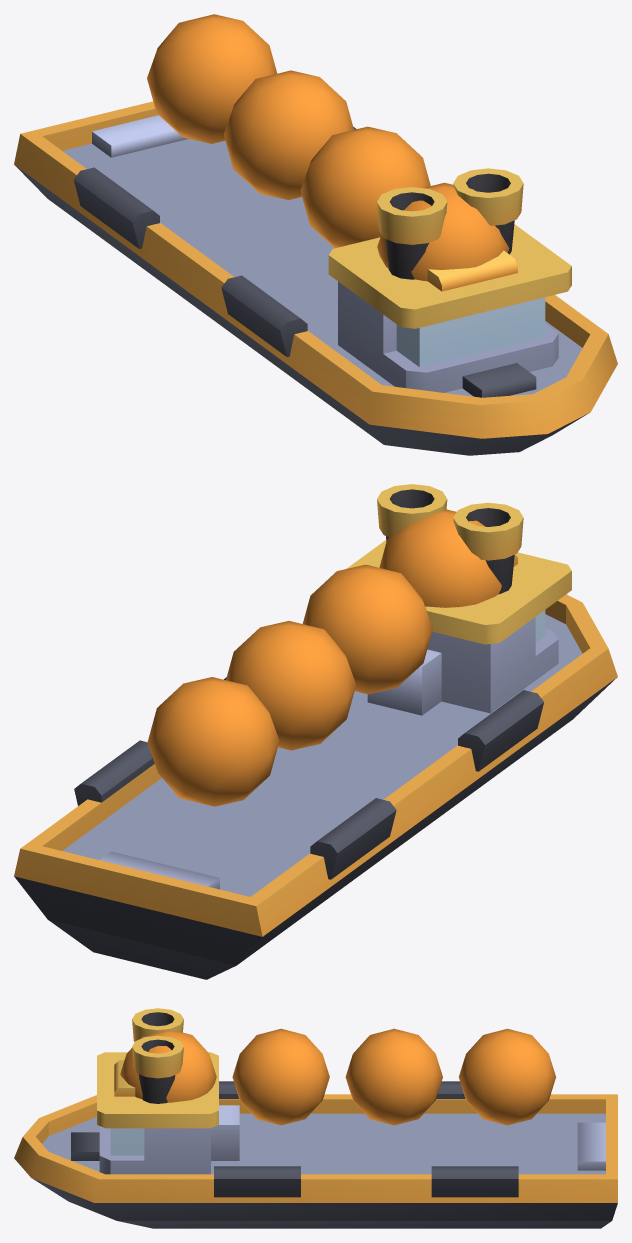
The model's file is lng.glb.
The picture shows the model from 3 angles, top to bottom: view 1: azimuth 30°, elevation 25°; view 2: azimuth 150°, elevation 25°; view 3: azimuth 270°, elevation 25°; orthographic projection. The views are drawn at different scales.
Parts seen in each view (by area): view 1: lng; view 2: lng; view 3: lng.
Boxes of the visible parts, x1,y1,x2,y2 form: lng: (14,14,617,455); lng: (14,484,617,979); lng: (14,1008,617,1228).
Bounding box in the file's own units: 1.29 × 1.11 × 3.47.
1 material, 1 textured.
